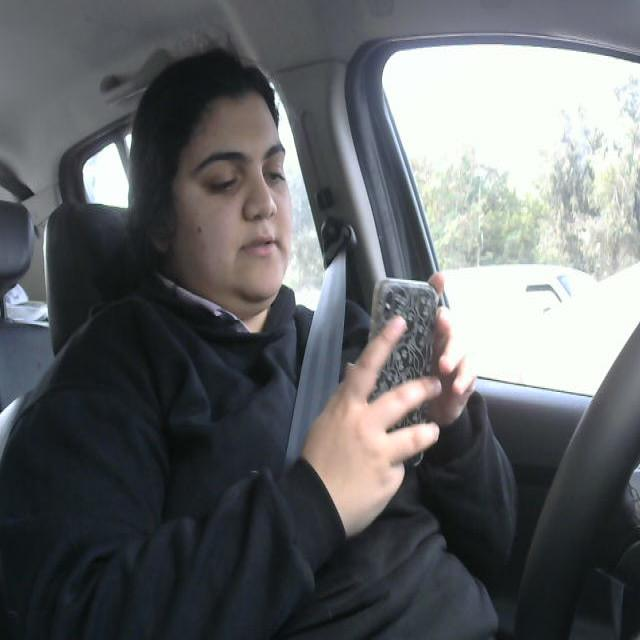mobile use: (366, 281, 440, 468)
